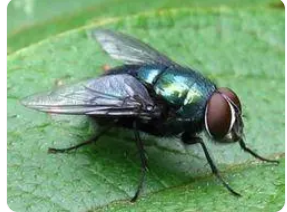liriomyza: (18, 25, 279, 204)
